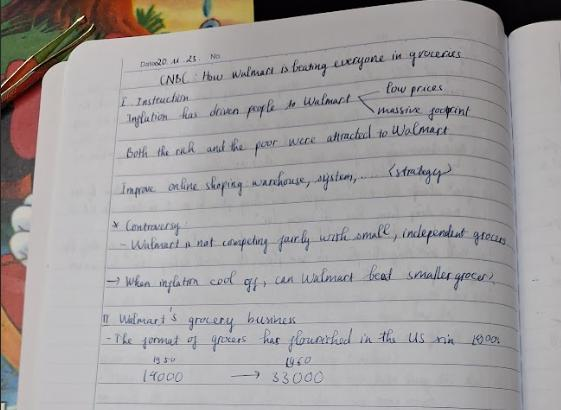text: (105, 262, 497, 298), (129, 220, 509, 257), (120, 160, 454, 202), (125, 119, 450, 162), (157, 48, 463, 89), (106, 328, 502, 356), (126, 91, 352, 130), (101, 304, 298, 335), (376, 103, 472, 124), (111, 217, 183, 240), (137, 50, 223, 69), (119, 91, 191, 108), (384, 80, 444, 100), (270, 368, 325, 388), (138, 367, 185, 386), (283, 352, 313, 372), (148, 352, 177, 366)
